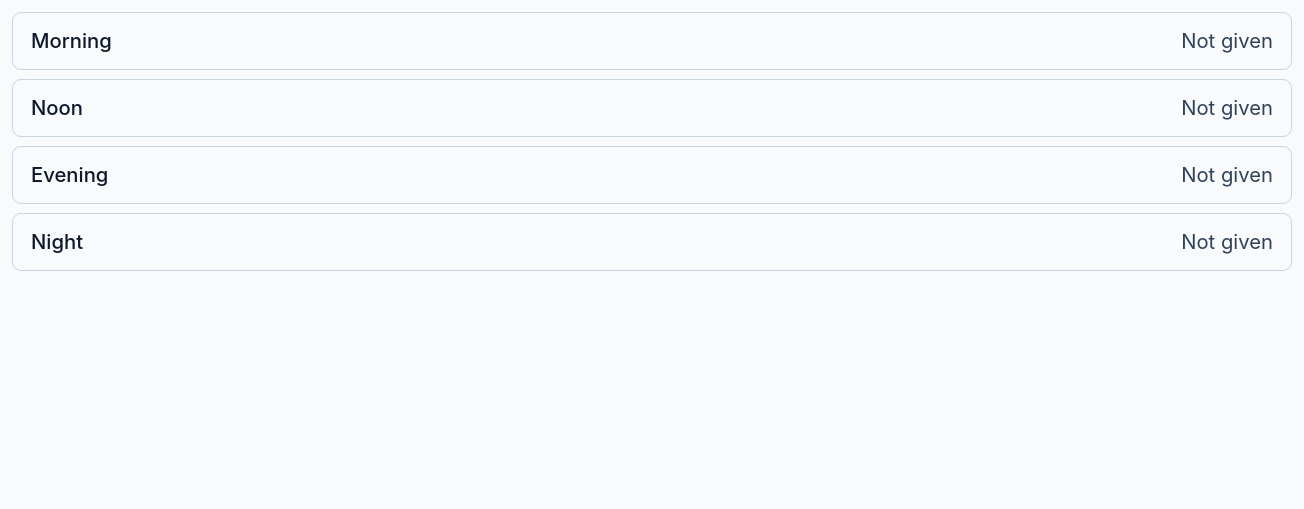
Test: DoseTimeList › expanding a second row collapses the first
Click the button "Morning Not given": x=71, y=41 [13, 13, 1291, 69]
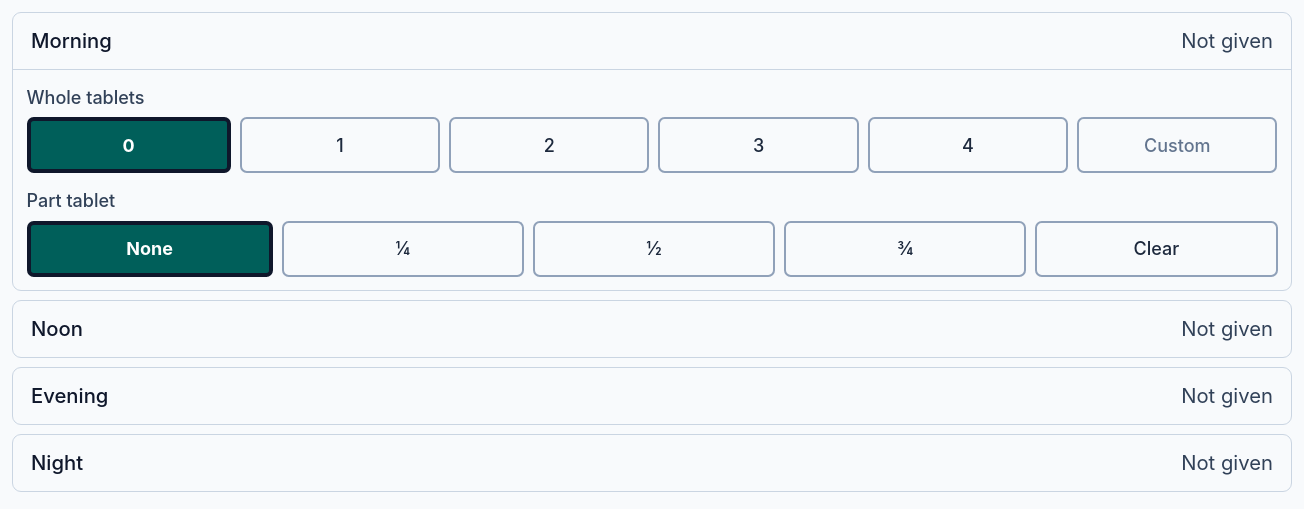
Check: the element named "Morning: whole tablets" is shown, box [26, 117, 1278, 173]
Click the button "Noon Not given": x=57, y=329 [13, 301, 1291, 357]
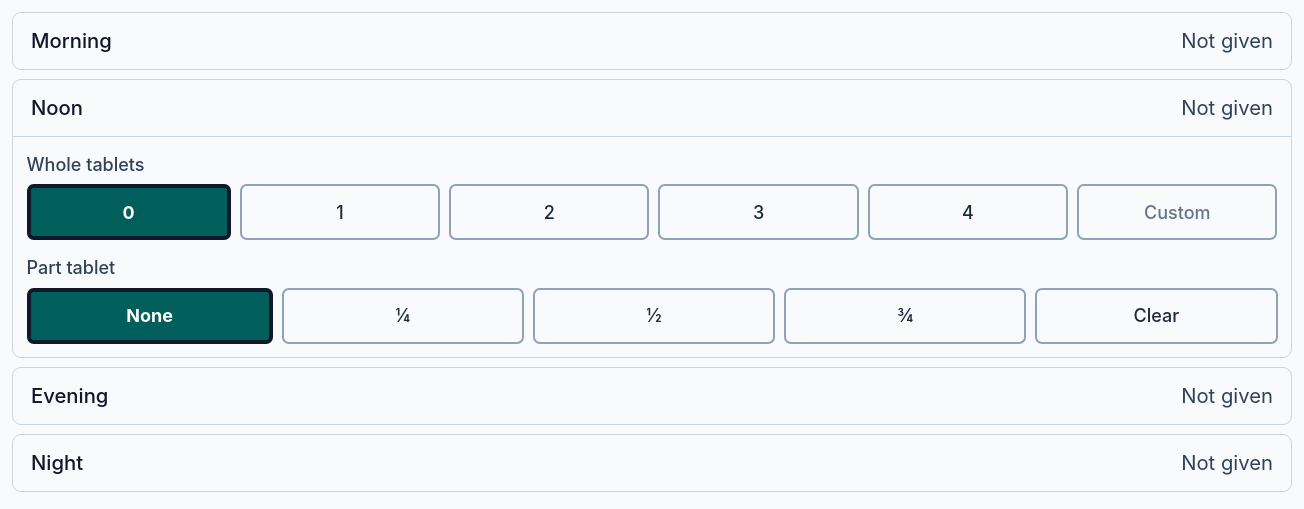
Check: the button "Noon Not given" is expanded, box [13, 80, 1291, 136]
Check: the element named "Noon: whole tablets" is shown, box [26, 184, 1278, 240]
